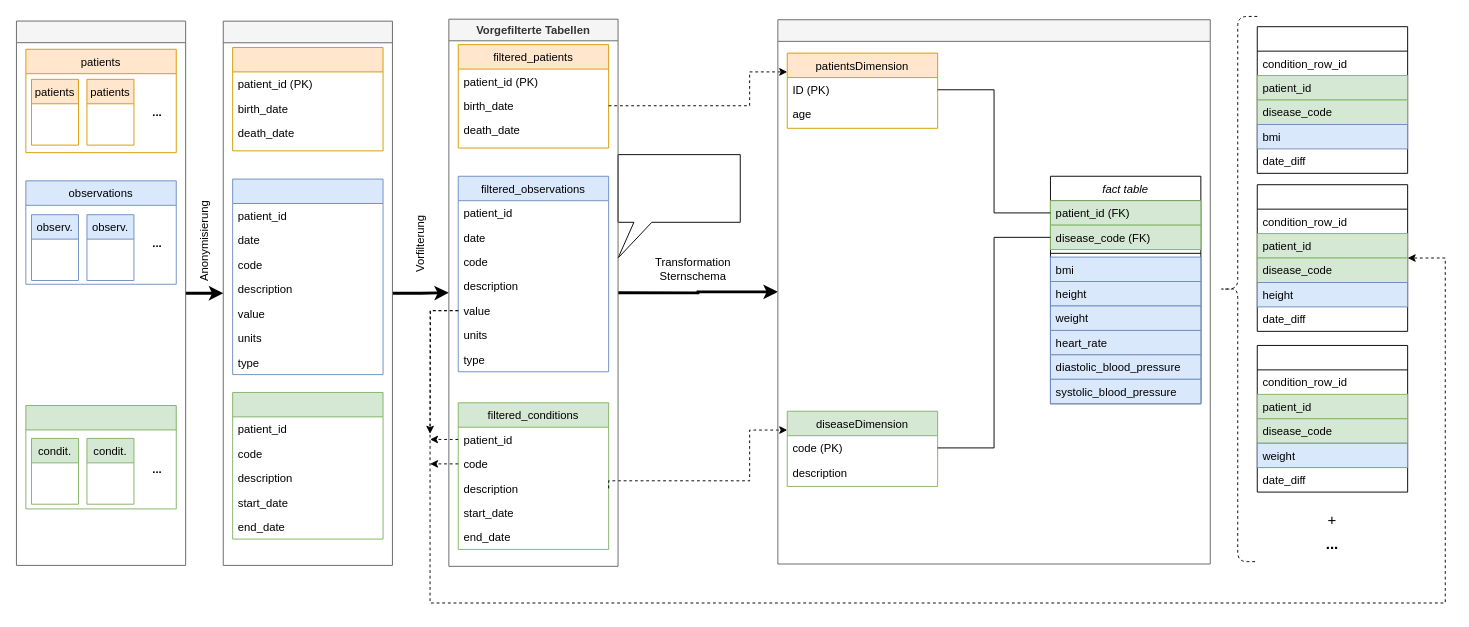
Image size: 1469x627. Some labels were removed from this diagram. Each missing label, with the box of its shape:
Anonymisierte Tabellen: (222, 20, 392, 565)
anonymized_conditions: (232, 392, 383, 539)
anonymized_observations: (232, 178, 383, 375)
anonymized_patients: (232, 47, 383, 151)
conditions: (25, 405, 176, 509)
patient_condition_bmi: (1256, 26, 1408, 173)
patient_condition_height: (1256, 184, 1408, 331)
patient_condition_weight: (1256, 345, 1408, 492)
Quelltabellen: (16, 20, 186, 565)
Sternschema: (777, 19, 1210, 564)
where code in ( '8302-2', '29463-7', '39156-5', '8462-4', '8480-6', '8867-4'): (617, 154, 740, 258)
